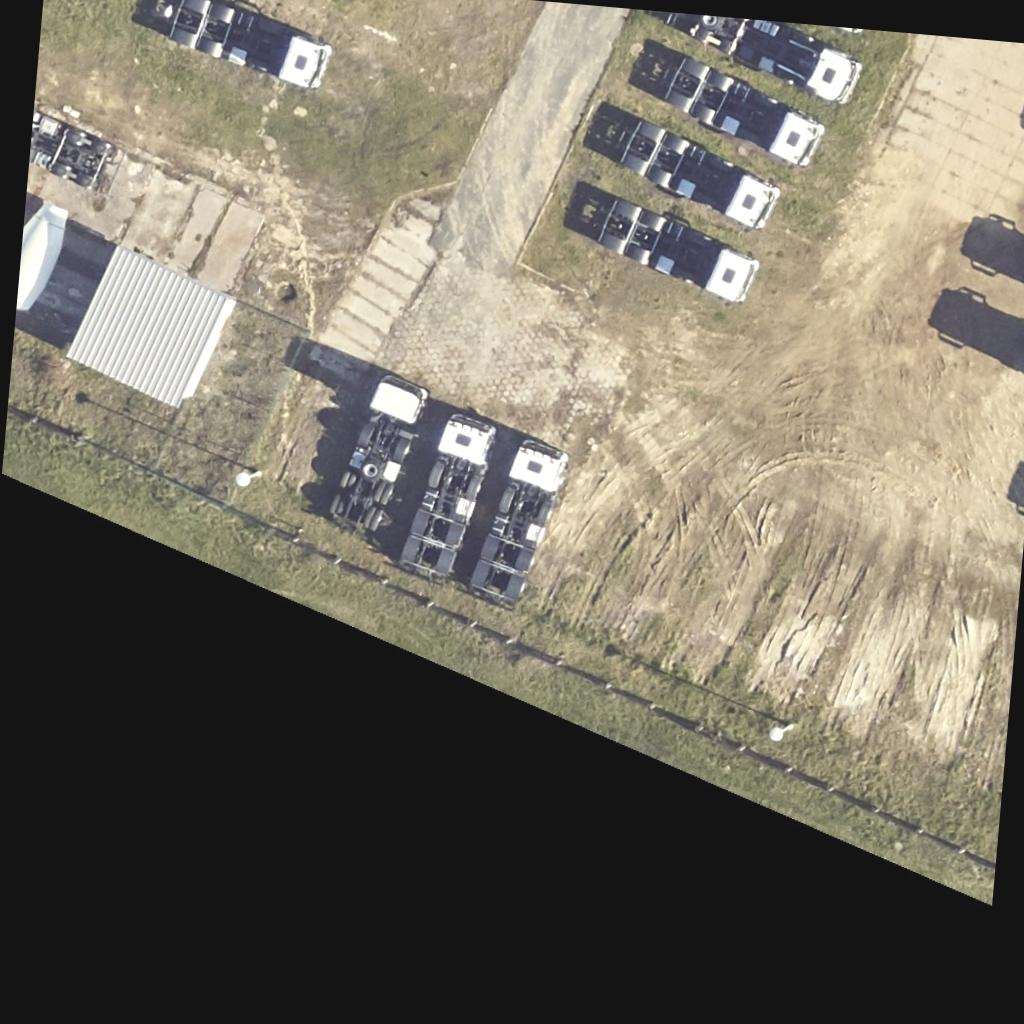kontener: (64, 243, 238, 411)
